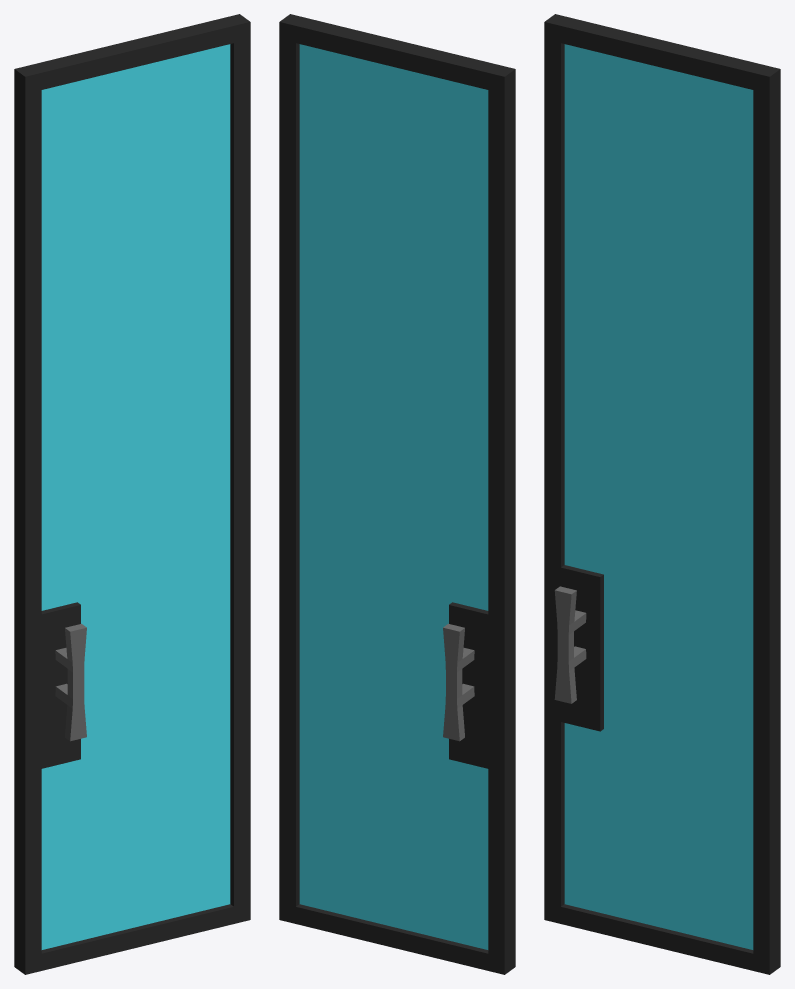
File: SM_Buildings_Office_02_Door_R.fbx
The picture shows the model from 3 angles, left to right: view 1: azimuth 30°, elevation 25°; view 2: azimuth 150°, elevation 25°; view 3: azimuth 330°, elevation 25°; orthographic projection.
Parts seen in each view (by area): view 1: SM_Buildings_Office_02_Door_R; view 2: SM_Buildings_Office_02_Door_R; view 3: SM_Buildings_Office_02_Door_R.
Boxes of the visible parts, left/top/right/bottom form: SM_Buildings_Office_02_Door_R: left=14, top=14, right=250, bottom=974; SM_Buildings_Office_02_Door_R: left=279, top=14, right=515, bottom=974; SM_Buildings_Office_02_Door_R: left=544, top=14, right=780, bottom=974.
Size of the model in its own units: 0.6454 by 2.46 by 0.2255.
